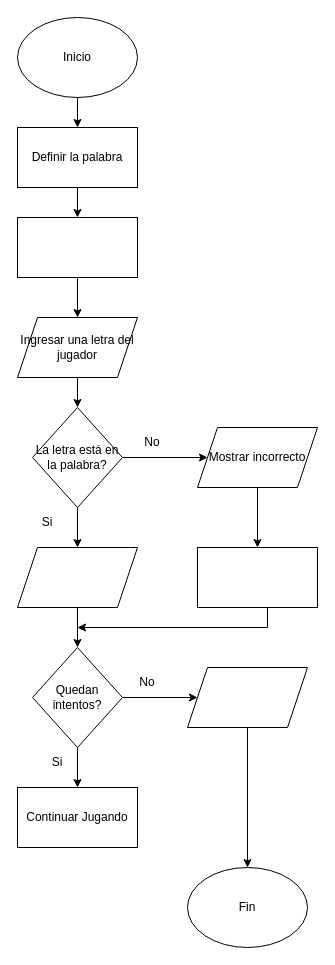
Some shapes in this 335 by 965 pixel diagram are drawn without their labels. Here are the shapes that lost their labels. From the top down, the centre of each, then its label:
[77,247]: Definir Intentos
[77,577]: Mostrar correcto
[257,577]: Restar un intento
[247,697]: Perdió
